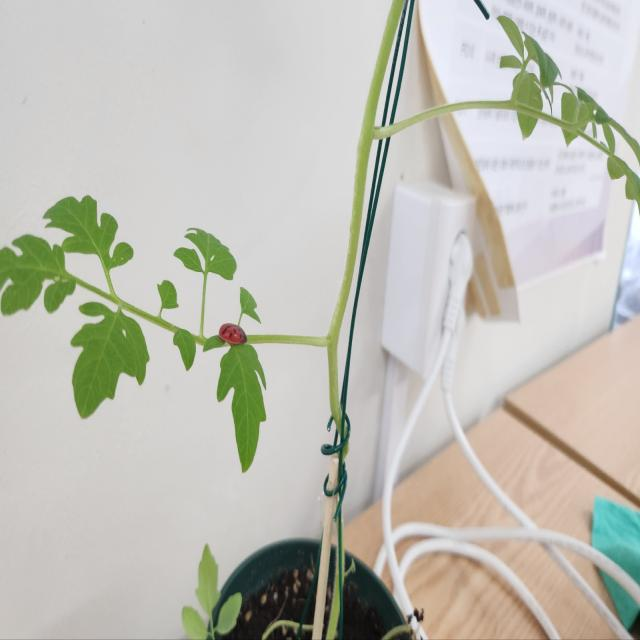bug: (208, 310, 255, 364)
